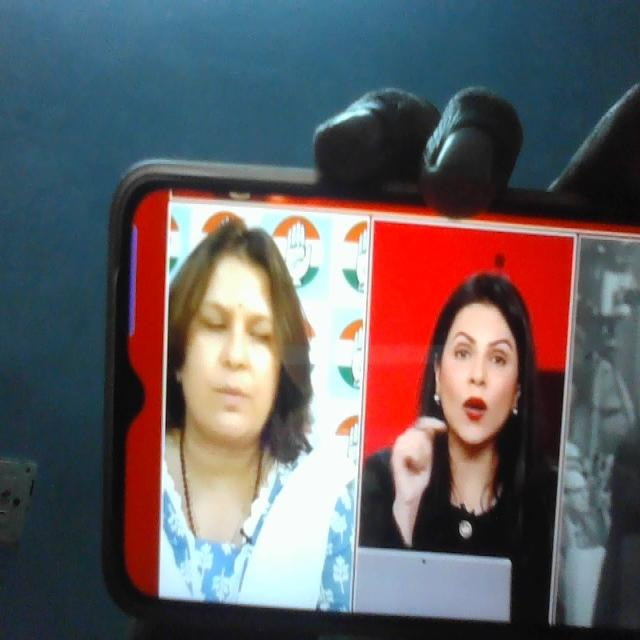fake: (167, 209, 299, 459), (424, 247, 539, 464)
